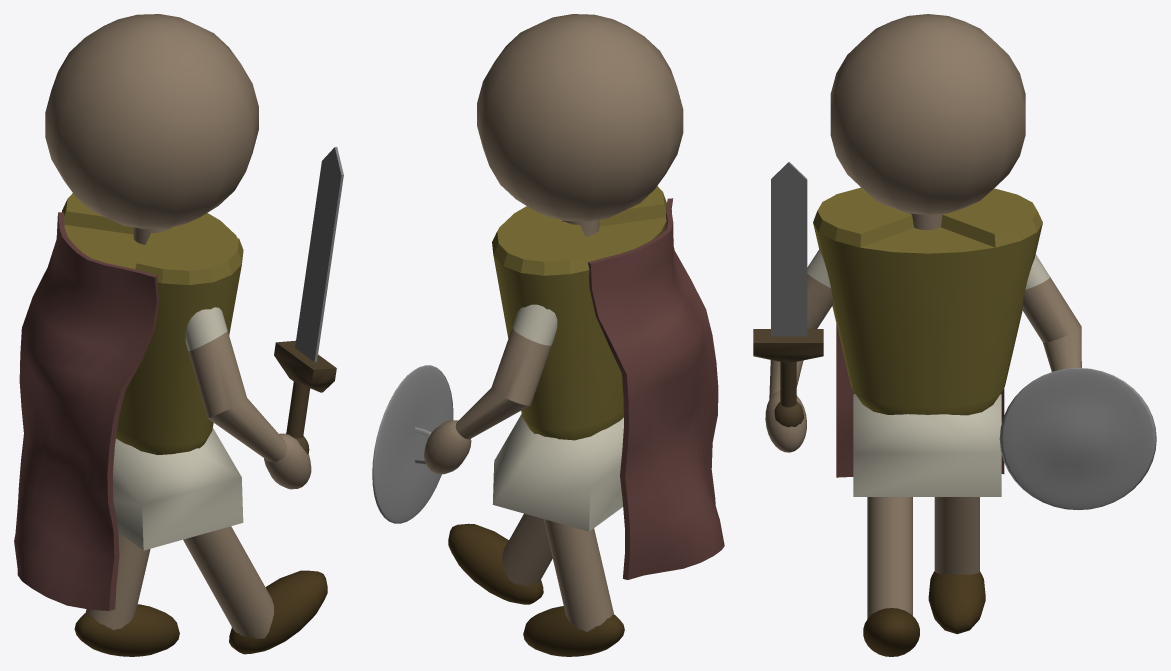
Rendered from character move 1.fbx.
3 renders of one model, left to right at view 1: azimuth 30°, elevation 25°; view 2: azimuth 150°, elevation 25°; view 3: azimuth 270°, elevation 25°, orthographic. The views are drawn at different scales.
Visible parts, largest first — view 1: polySurface6_f_0:; view 2: polySurface6_f_0:; view 3: polySurface6_f_0:.
Boxes of the visible parts, left/top/right/bottom form: polySurface6_f_0:: left=14, top=14, right=343, bottom=656; polySurface6_f_0:: left=372, top=14, right=724, bottom=656; polySurface6_f_0:: left=753, top=14, right=1156, bottom=656.
Size of the model in its own units: 3.09 by 6.57 by 4.
